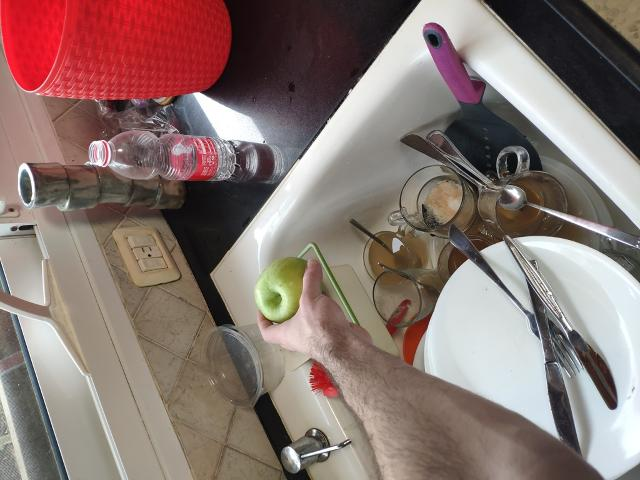apple: (246, 260, 323, 321)
